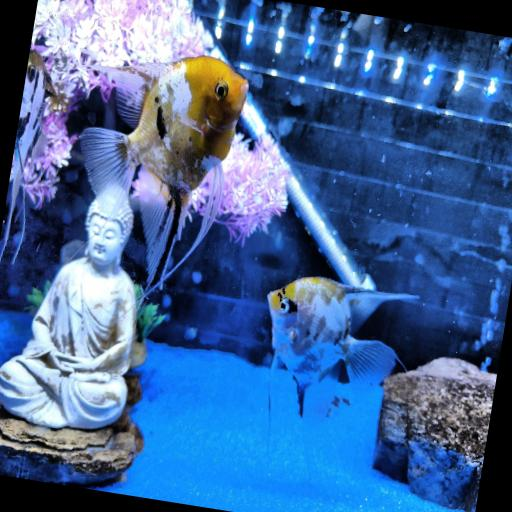Fish: (80, 56, 247, 285), (267, 277, 416, 427), (0, 50, 52, 260)
